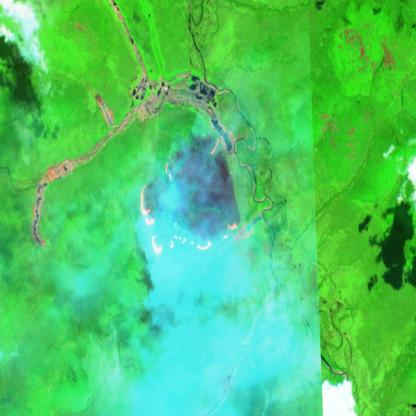fire: (138, 132, 239, 258)
